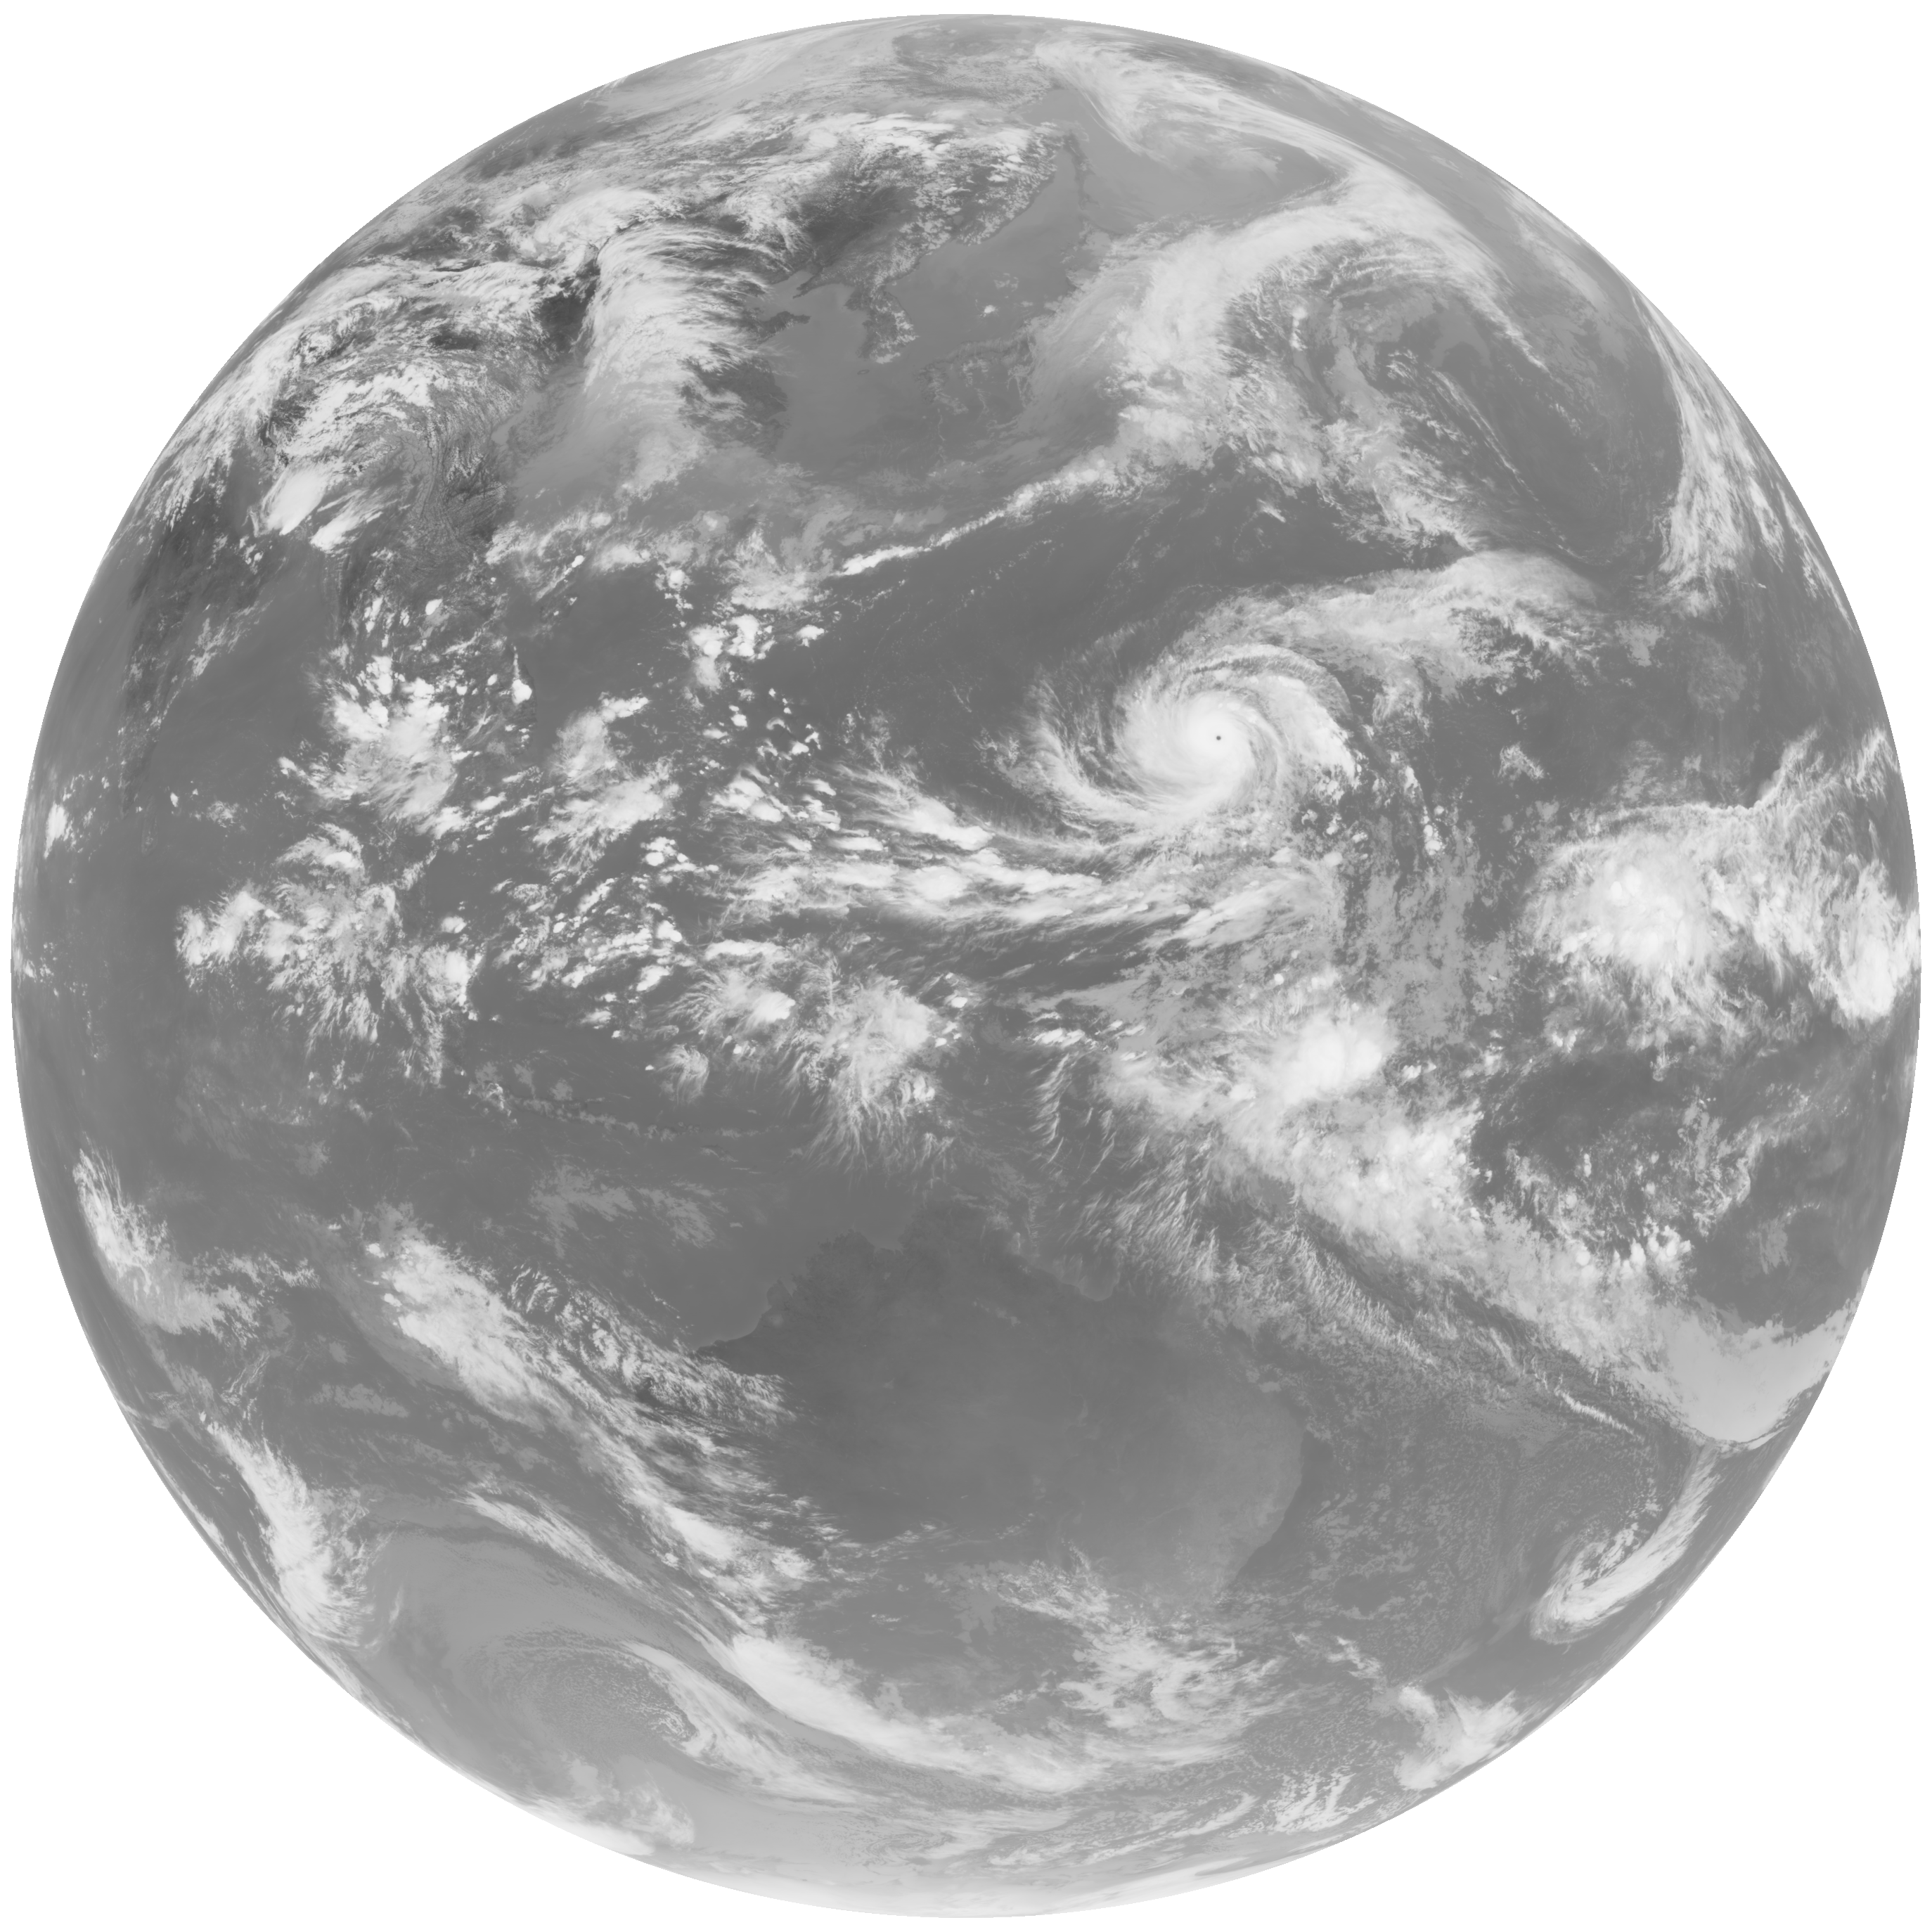typhoon: (902, 545, 1543, 924)
